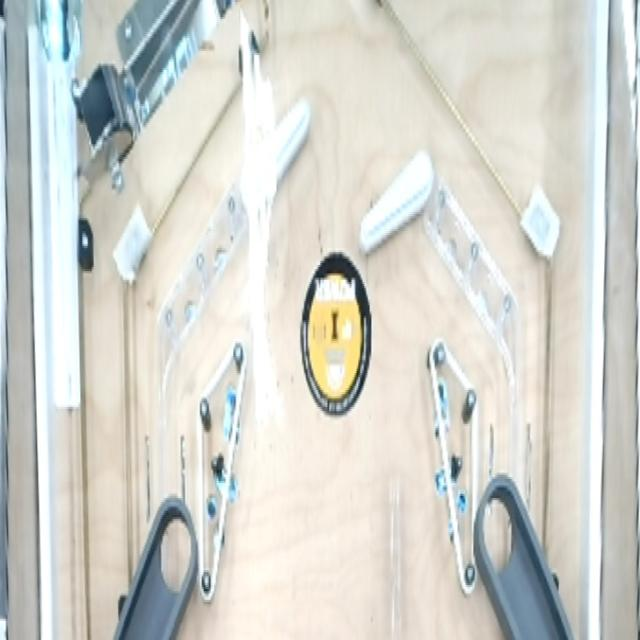ball: (382, 460, 407, 640)
flipper-left: (357, 142, 437, 263)
flipper-right: (238, 93, 312, 223)
